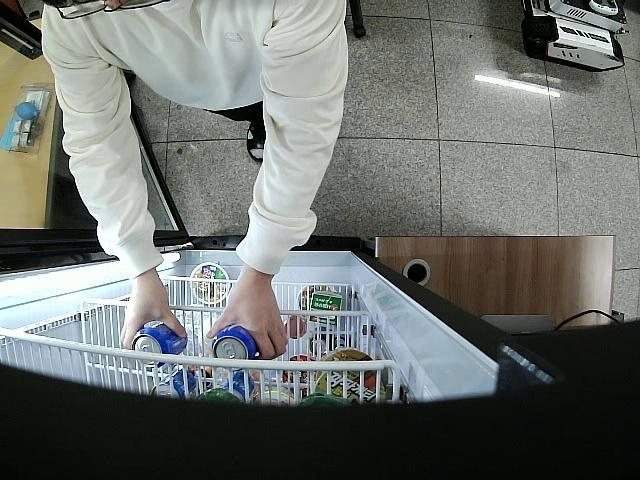13_pocariSweat: (133, 320, 186, 368), (212, 323, 260, 372)
